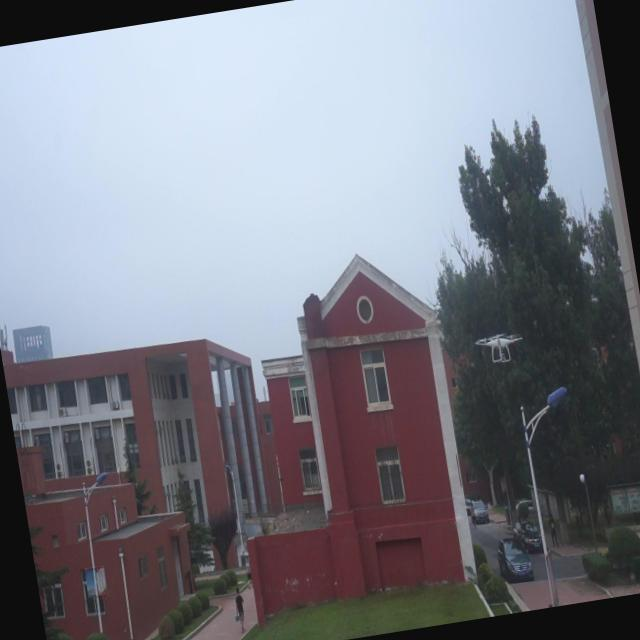drone: (472, 322, 530, 370)
